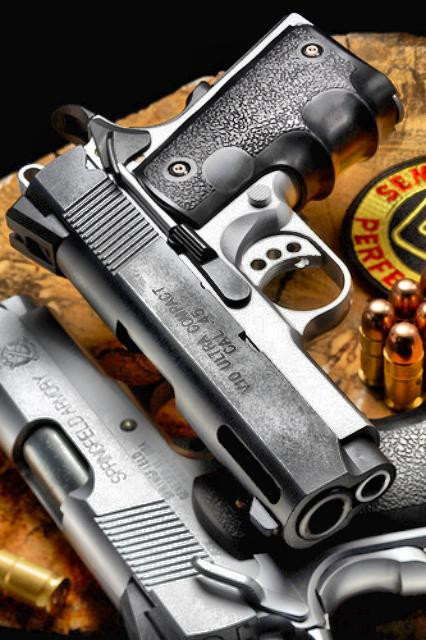pistol: (27, 13, 408, 554), (1, 284, 414, 638)
